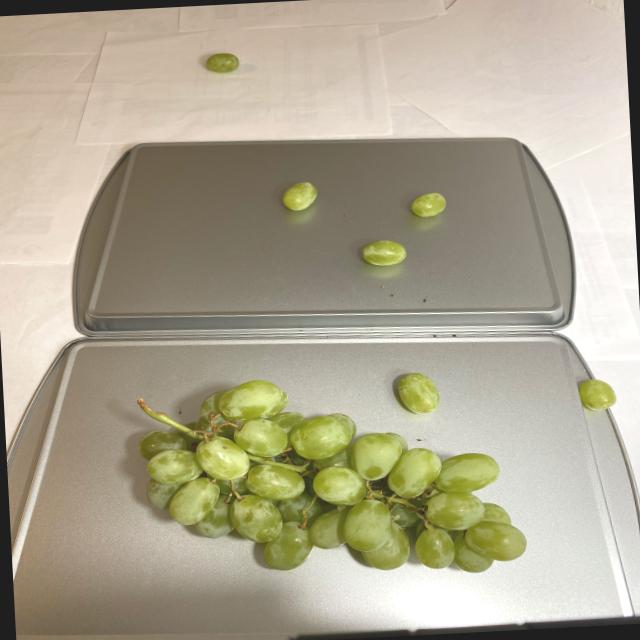grapes: (138, 364, 529, 590), (274, 172, 446, 278)
